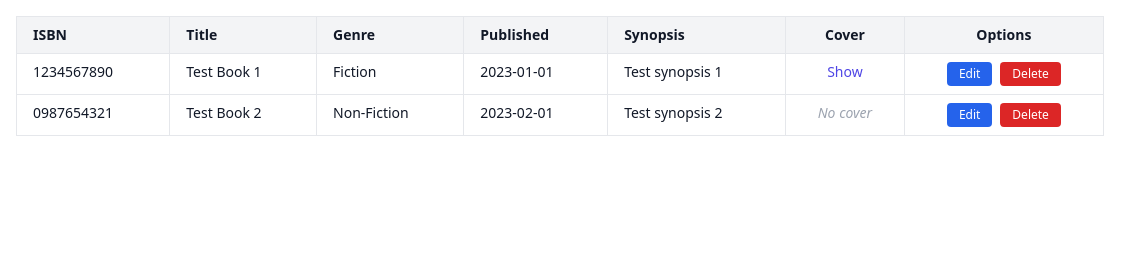
it: BookTable Component › enters edit mode when edit button is clicked
The width and height of the screenshot is (1121, 254).
What coordinates should you click on to do the following:
click the button "Edit" in the row of "1234567890"
I would click on:
 (970, 74)
Its box is [947,62,992,86].
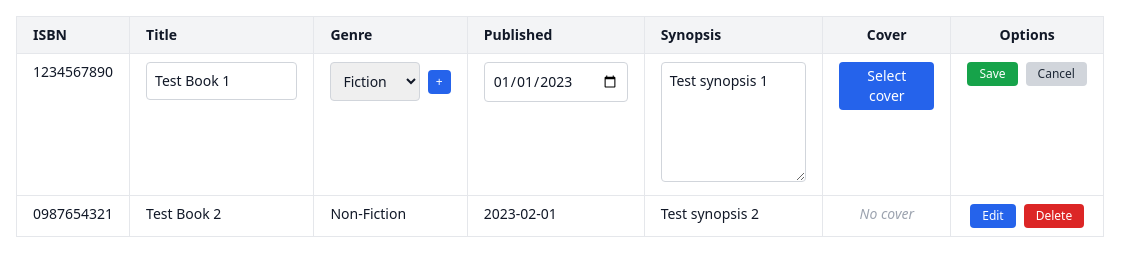
Expected: the field showing "Test Book 1" is shown, [146,62,297,100]
Expected: the button "Save" is shown, [967,62,1018,86]
Expected: the button "Cancel" is shown, [1026,62,1087,86]
